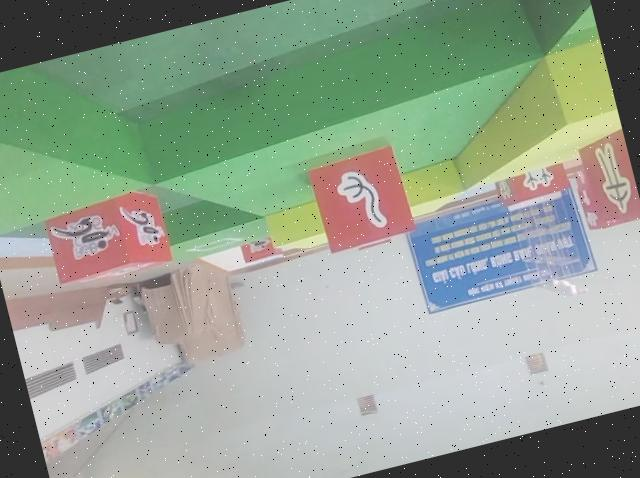R1: (45, 186, 175, 290)
R2 Fake: (574, 126, 640, 227)
R2 Real: (307, 143, 417, 256)
